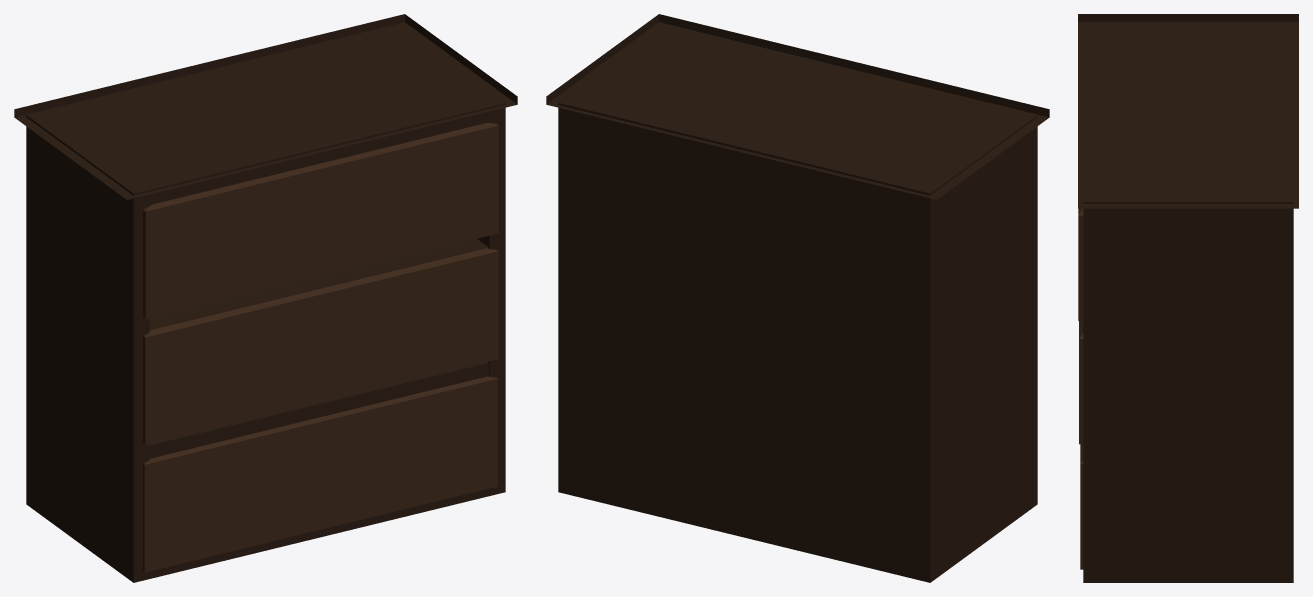
Rendered from dresser.glb.
The picture shows the model from 3 angles, left to right: view 1: azimuth 30°, elevation 25°; view 2: azimuth 150°, elevation 25°; view 3: azimuth 270°, elevation 25°; orthographic projection. The views are drawn at different scales.
Parts seen in each view (by area): view 1: dresserBody, Cube.003, Cube.001, Cube.002; view 2: dresserBody; view 3: dresserBody, Cube.001, Cube.003, Cube.002.
Boxes of the visible parts, x1=… form: dresserBody: x1=14, y1=14, x2=517, y2=582; Cube.003: x1=143, y1=248, x2=498, y2=445; Cube.001: x1=143, y1=123, x2=498, y2=319; Cube.002: x1=143, y1=376, x2=497, y2=572; dresserBody: x1=546, y1=14, x2=1049, y2=582; dresserBody: x1=1078, y1=14, x2=1298, y2=582; Cube.001: x1=1078, y1=208, x2=1083, y2=320; Cube.003: x1=1079, y1=321, x2=1083, y2=444; Cube.002: x1=1080, y1=444, x2=1083, y2=569.
Bounding box in the file's own units: 4.2 × 4.06 × 2.1.
